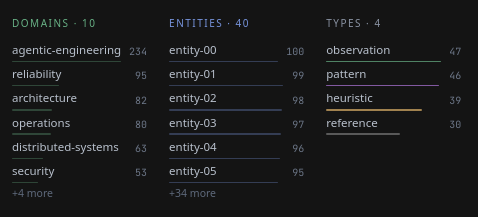
it: overflow browser › "+N more" opens the browser for THAT facet, listing every value
Click the text with test id "facet-more" showing "+4 more" at (32, 193), box top-left (12, 186), bottom-right (53, 200)
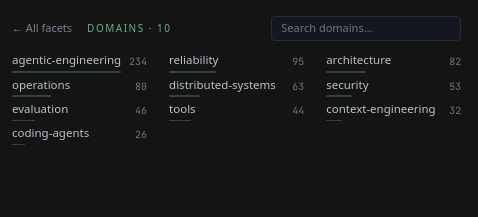
Expected: the number of elements with test id "tag-item" is 10
Expected: the element with test id "facet-column" is gone
